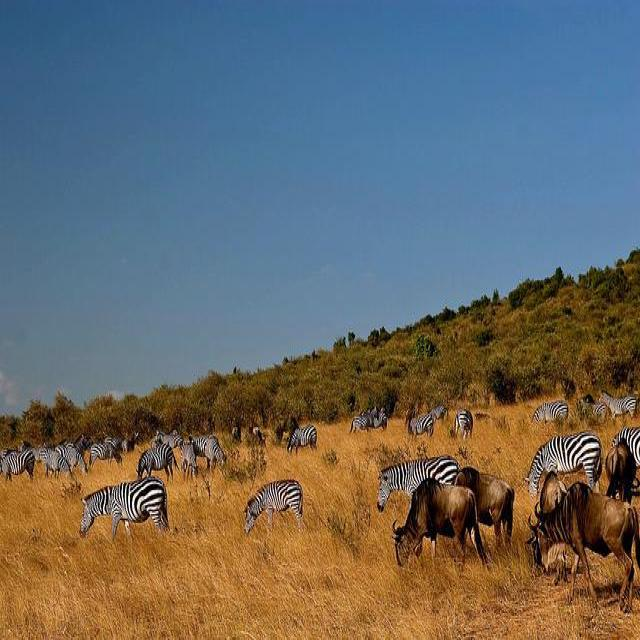Sheep: (527, 482, 639, 618)
